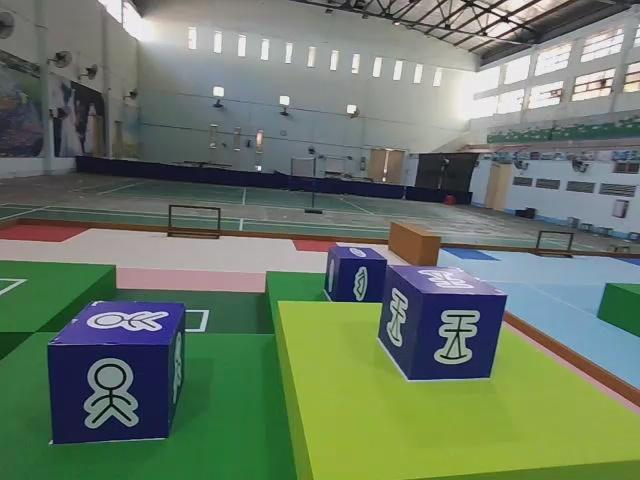R2 Real Blue: (47, 301, 187, 445), (378, 265, 508, 383), (325, 245, 389, 305)
